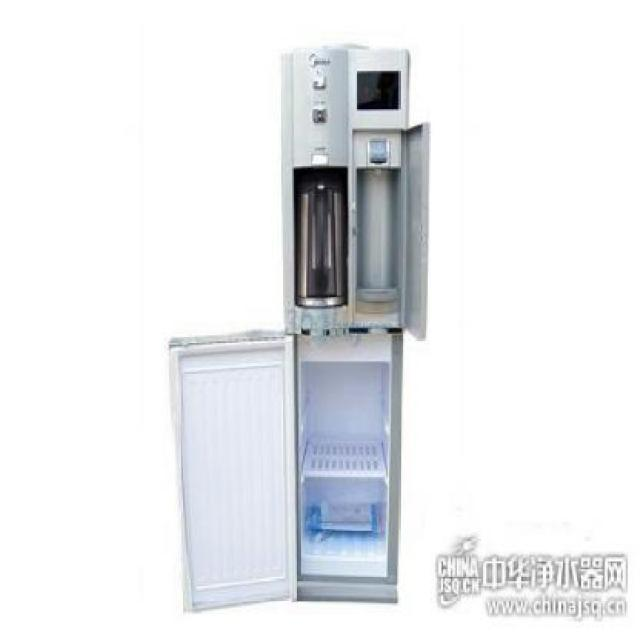cooler: (278, 40, 417, 613)
